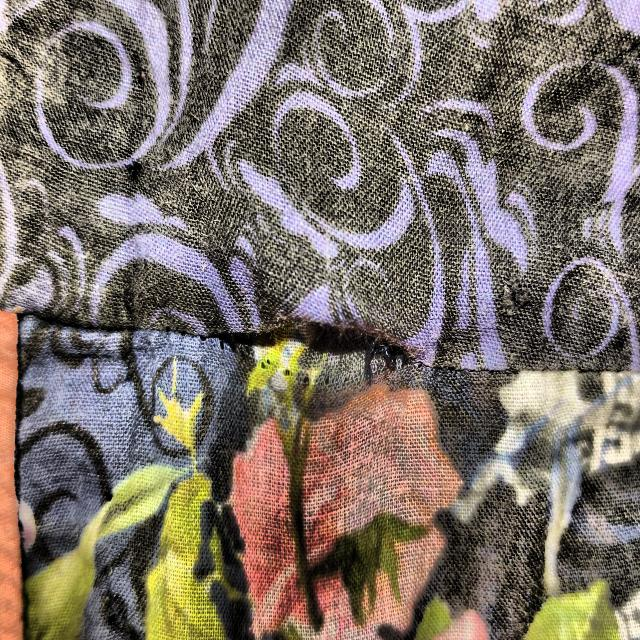seam: (176, 268, 446, 427)
